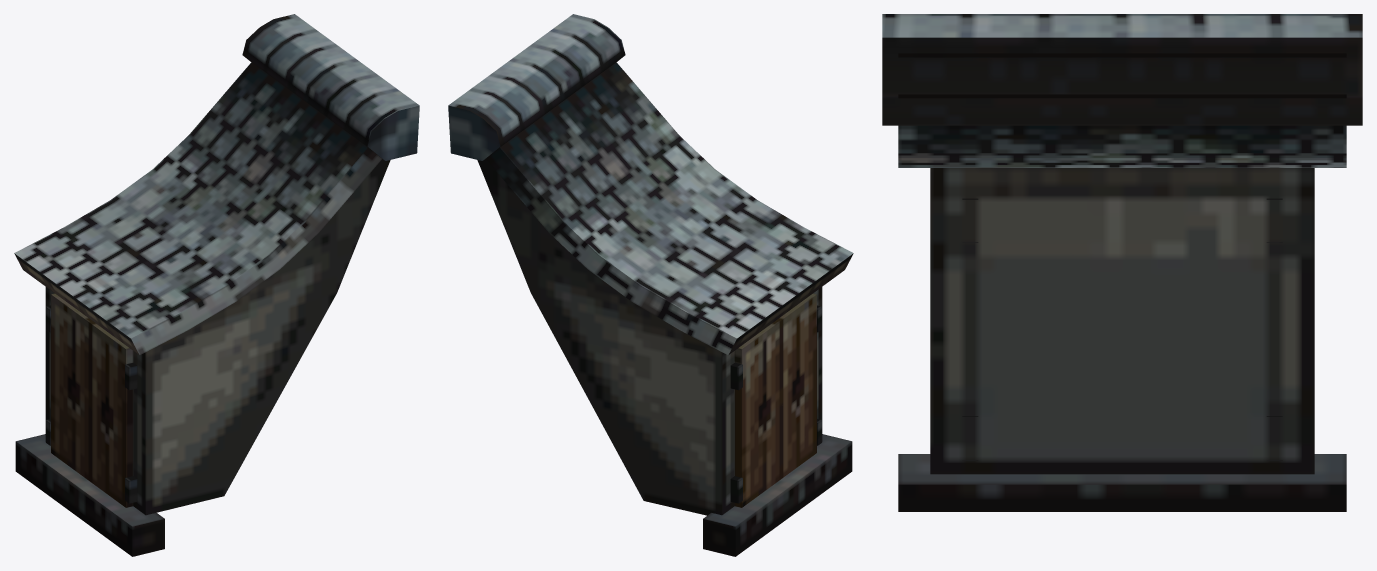
The model's file is EnvBdgMD_SnowHouse_A_Outdoor_Dormer_A.FBX.
The picture shows the model from 3 angles, left to right: view 1: azimuth 30°, elevation 25°; view 2: azimuth 150°, elevation 25°; view 3: azimuth 270°, elevation 25°; orthographic projection. The views are drawn at different scales.
Visible parts, largest first — view 1: EnvBdgMD_SnowHouse_A_Outdoor_Dormer_A; view 2: EnvBdgMD_SnowHouse_A_Outdoor_Dormer_A; view 3: EnvBdgMD_SnowHouse_A_Outdoor_Dormer_A.
Part boxes in pixels (<box>): EnvBdgMD_SnowHouse_A_Outdoor_Dormer_A: <box>14,14,419,556</box>; EnvBdgMD_SnowHouse_A_Outdoor_Dormer_A: <box>448,14,853,556</box>; EnvBdgMD_SnowHouse_A_Outdoor_Dormer_A: <box>882,14,1362,511</box>.
Bounding box in the file's own units: 197 × 255 × 150.
1 material, 1 textured.
